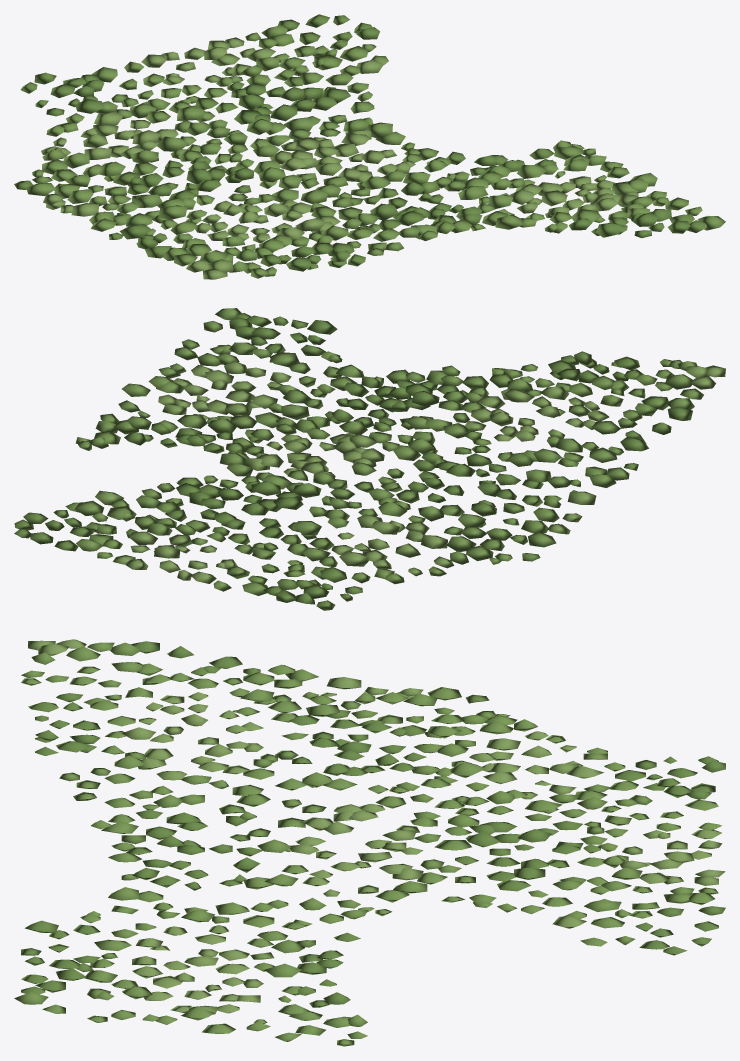
Rendered from canopy-1--6--6.glb.
3 renders of one model, top to bottom at view 1: azimuth 30°, elevation 25°; view 2: azimuth 150°, elevation 25°; view 3: azimuth 270°, elevation 25°, orthographic. The views are drawn at different scales.
Size of the model in its own units: 518 by 97.5 by 512.
Materials: 1 (1 with a texture image).
